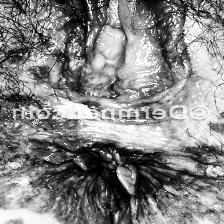Potentially Malignant Skin Tumors: (32, 148, 142, 216), (144, 154, 224, 222), (0, 148, 64, 214), (0, 29, 59, 80), (0, 132, 50, 178)
